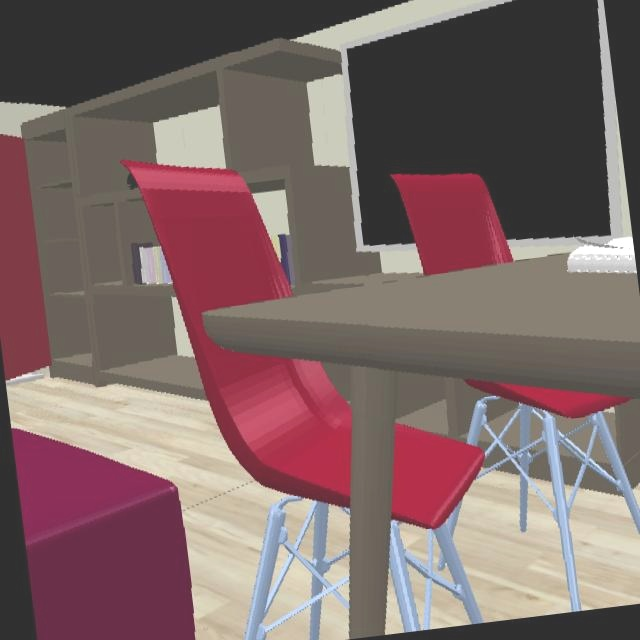book: (132, 245, 172, 285), (278, 236, 294, 287)
bookshelf: (23, 42, 360, 400)
chair: (121, 162, 351, 510), (464, 380, 632, 612), (390, 425, 484, 624), (392, 173, 513, 276)
monitor: (344, 0, 620, 245)
sofa: (11, 429, 194, 640)
